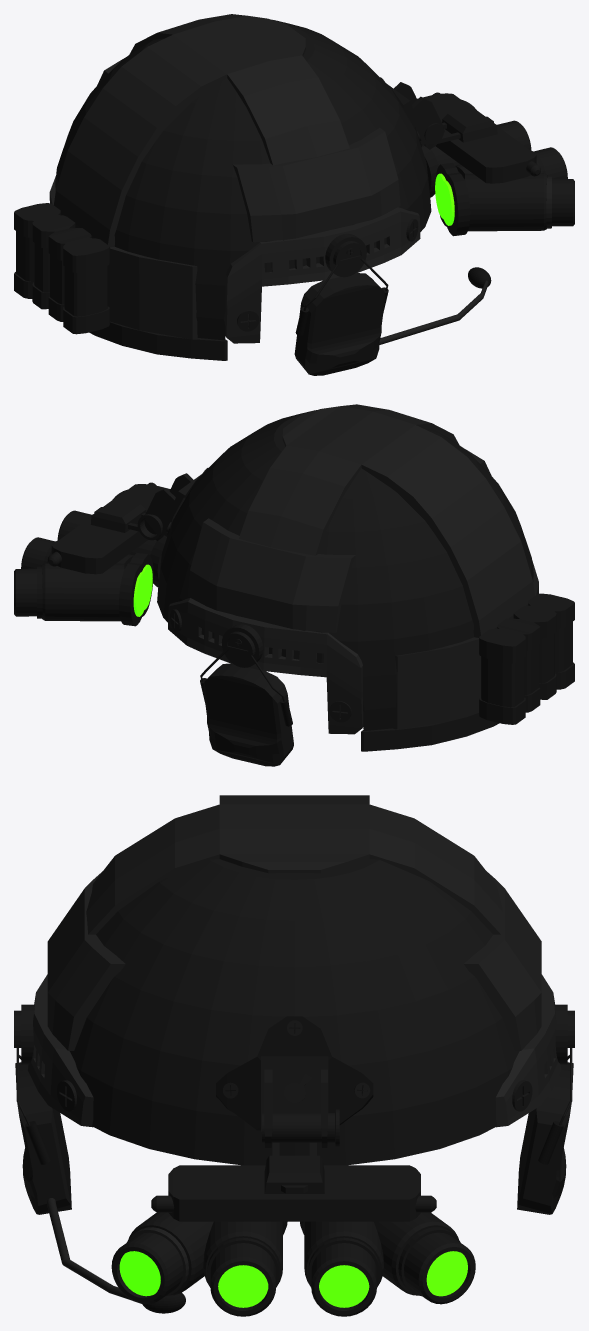
Rendered from BH23 QUICK HELMET (1).fbx.
3 views of the same model, one above another, from view 1: azimuth 30°, elevation 25°; view 2: azimuth 150°, elevation 25°; view 3: azimuth 270°, elevation 25° (orthographic). The views are drawn at different scales.
Parts seen in each view (by area): view 1: Velcro 1, Main Helmet, Cube.010, Side Rail 2, Cube, Cylinder.021, Cube.002, Cylinder.020, Cube.003, Cylinder.024, Cylinder.001, Cylinder.006 (+5 smaller); view 2: Velcro 1, Main Helmet, Cube.010, Side Rail 1, Cube.001, Cylinder.018, Cube.002, Cylinder.031, Cube.003, Cylinder.015, Cylinder.011, Cube.004 (+4 smaller); view 3: Main Helmet, Velcro 1, Cube.002, Cylinder.019, Nvg Mount, Cube.001, Cube, Side Rail 1, Side Rail 2, Cube.006, Cylinder.024, Cylinder.015 (+13 smaller).
Boxes of the visible parts, bbox=[...] form: Velcro 1: bbox=[49, 14, 400, 339]; Main Helmet: bbox=[55, 19, 431, 360]; Cube.010: bbox=[14, 203, 109, 334]; Side Rail 2: bbox=[225, 207, 420, 343]; Cube: bbox=[294, 273, 385, 375]; Cylinder.021: bbox=[465, 173, 547, 231]; Cube.002: bbox=[417, 93, 536, 183]; Cylinder.020: bbox=[435, 162, 470, 236]; Cube.003: bbox=[442, 107, 497, 142]; Cylinder.024: bbox=[464, 178, 574, 226]; Cylinder.001: bbox=[325, 233, 366, 277]; Cylinder.006: bbox=[379, 280, 488, 344]; Velcro 1: bbox=[188, 404, 538, 729]; Main Helmet: bbox=[157, 410, 533, 751]; Cube.010: bbox=[479, 593, 574, 724]; Side Rail 1: bbox=[168, 598, 363, 734]; Cube.001: bbox=[203, 663, 293, 766]; Cylinder.018: bbox=[41, 563, 124, 621]; Cube.002: bbox=[51, 484, 170, 574]; Cylinder.031: bbox=[119, 553, 153, 626]; Cube.003: bbox=[91, 498, 146, 532]; Cylinder.015: bbox=[14, 568, 124, 616]; Cylinder.011: bbox=[221, 624, 263, 667]; Cube.004: bbox=[144, 488, 175, 540]; Main Helmet: bbox=[69, 859, 519, 1165]; Velcro 1: bbox=[47, 795, 541, 1050]; Cube.002: bbox=[168, 1165, 420, 1221]; Cylinder.019: bbox=[119, 1251, 467, 1307]; Nvg Mount: bbox=[216, 1016, 373, 1130]; Cube.001: bbox=[517, 1062, 573, 1214]; Cube: bbox=[15, 1062, 71, 1214]; Side Rail 1: bbox=[495, 974, 561, 1127]; Side Rail 2: bbox=[27, 974, 93, 1127]; Cube.006: bbox=[261, 1055, 328, 1131]; Cylinder.024: bbox=[111, 1232, 183, 1304]; Cylinder.015: bbox=[404, 1232, 475, 1304].
Bounding box in the file's own units: 211 × 109 × 150.
